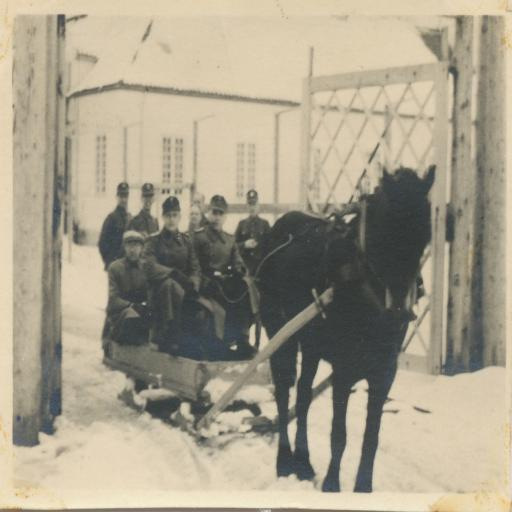Horse: (258, 164, 436, 494)
